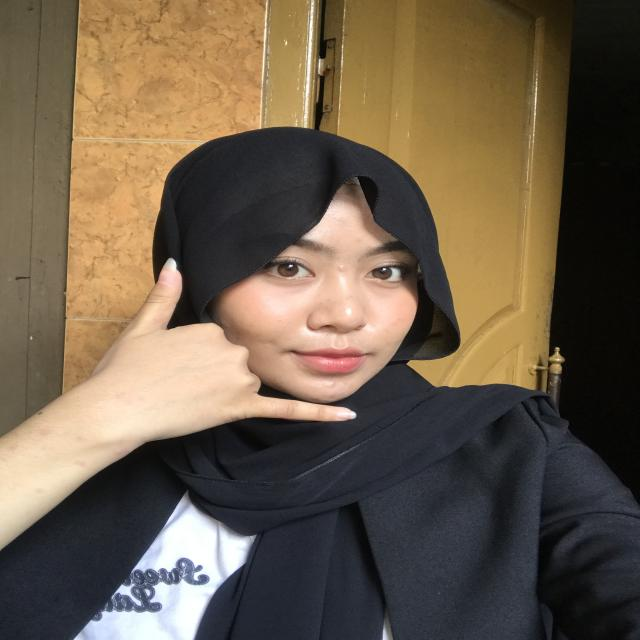telpon: (97, 253, 386, 443)
